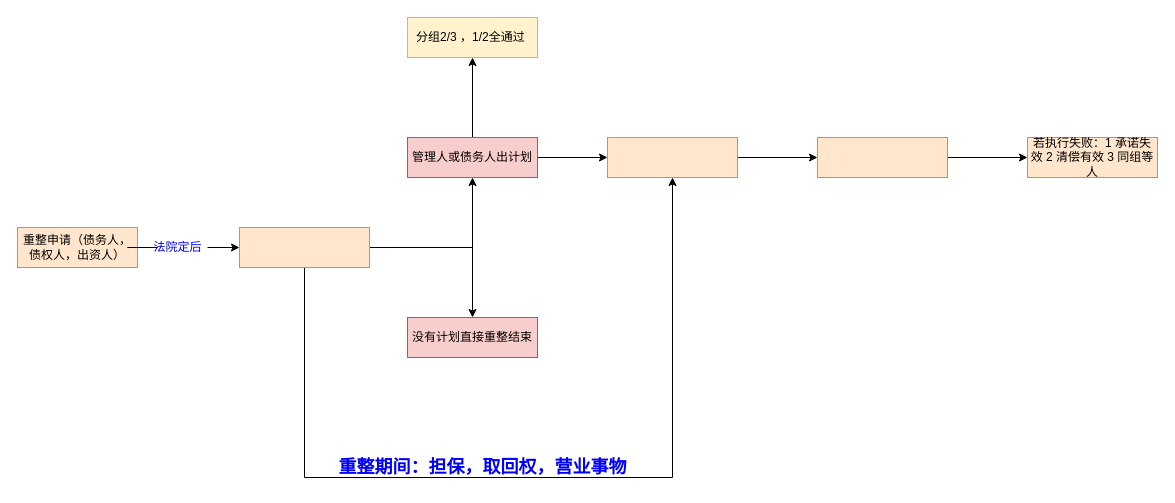
Image size: 1175x503. Some labels were removed from this diagram. Here are the shapes that lost their labels. From the top down, the centre of each, then its label:
At pixel 672 157: "1 通过 且 1批准。".
At pixel 882 157: "重整计划执行".
At pixel 304 247: "重整启动".
